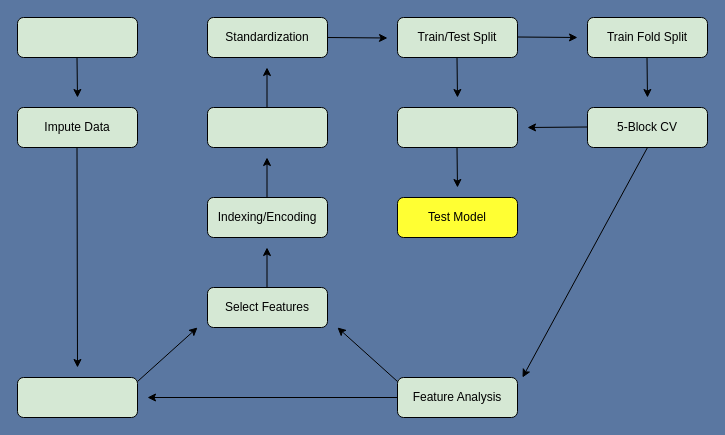
Image size: 725x435. Some labels were removed from this diagram. Here are the shapes that lost their labels. From the top down, the box of each, then its label:
(16, 16, 138, 58): Joined Data
(206, 106, 328, 148): Assemble Vector
(396, 106, 518, 148): Full Train
(16, 376, 138, 418): Engineer Features
